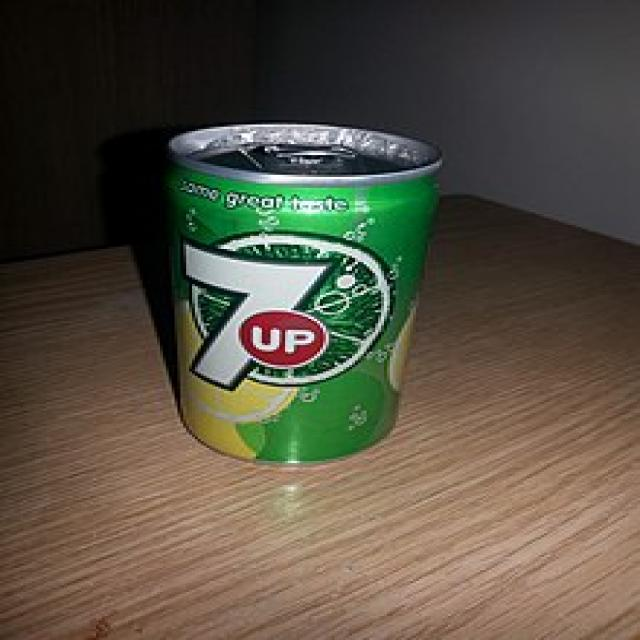non-organic waste: (142, 112, 454, 480)
